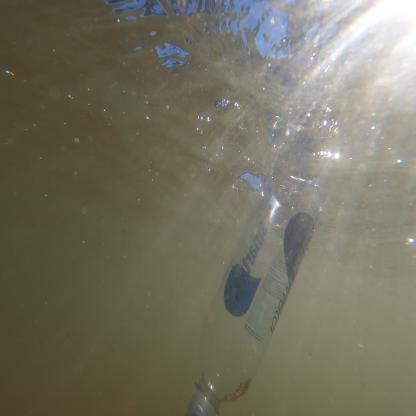Rác: (191, 164, 350, 416)
